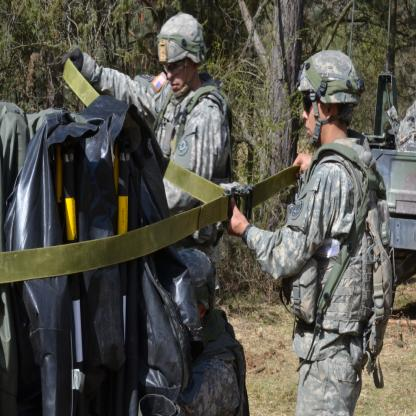Helmet: (302, 51, 362, 142), (156, 11, 207, 98)
